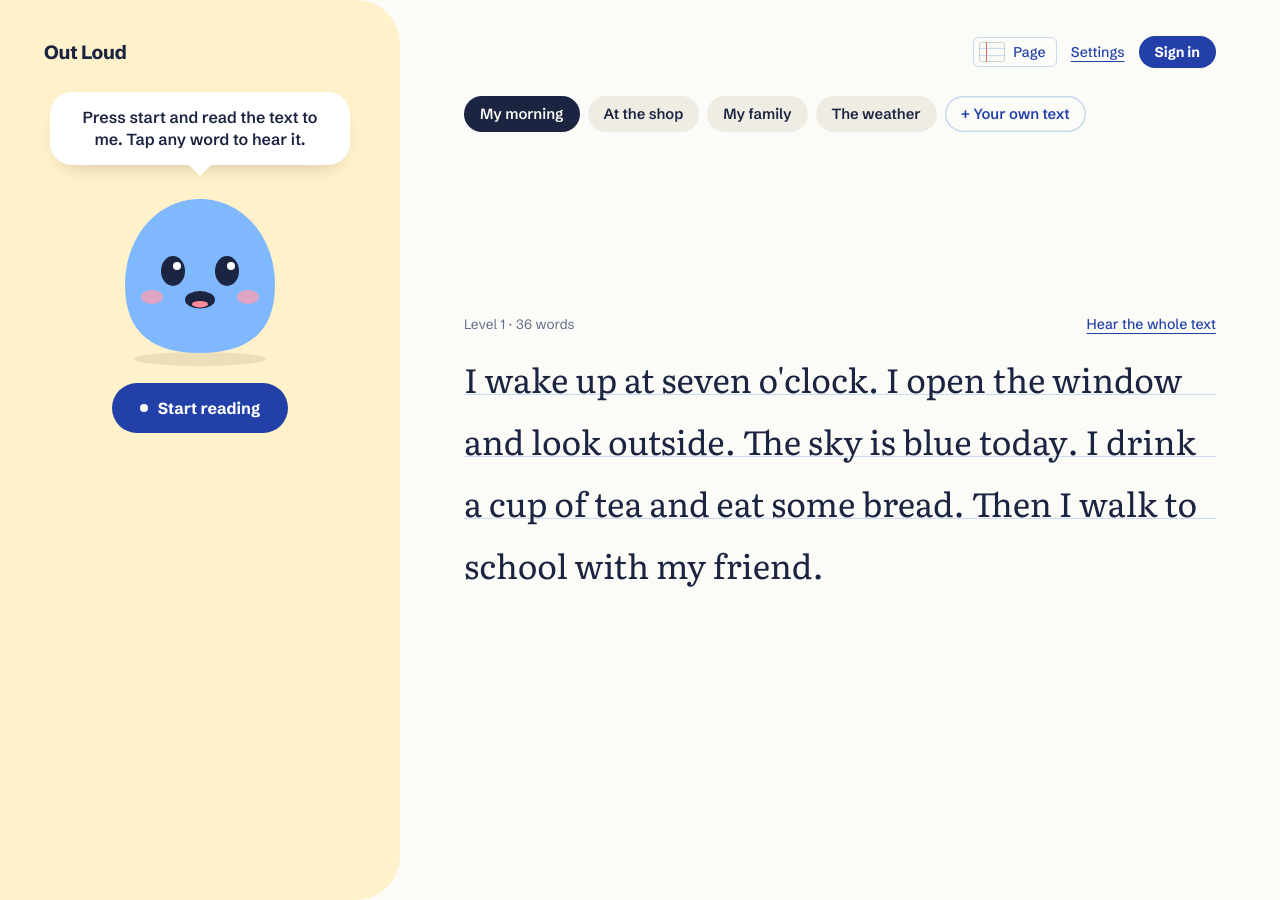
accounts and sync › explains a wrong password and stays signed out
The width and height of the screenshot is (1280, 900).
Click the button "Sign in" at (1177,52), box [1139,36,1216,68]
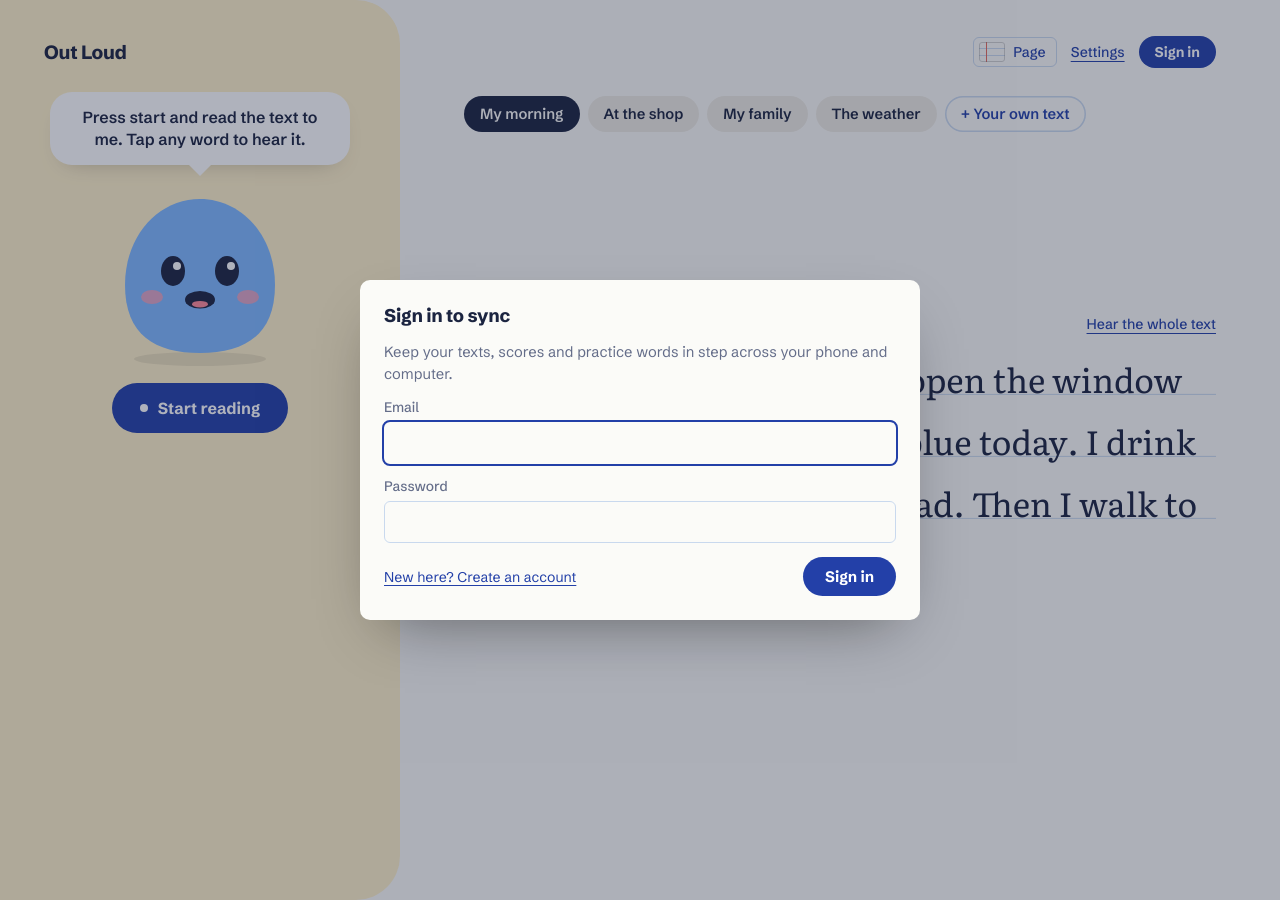
Type "me@example.com" into the field labelled "Email" at (640,443), box [384,422,896,464]
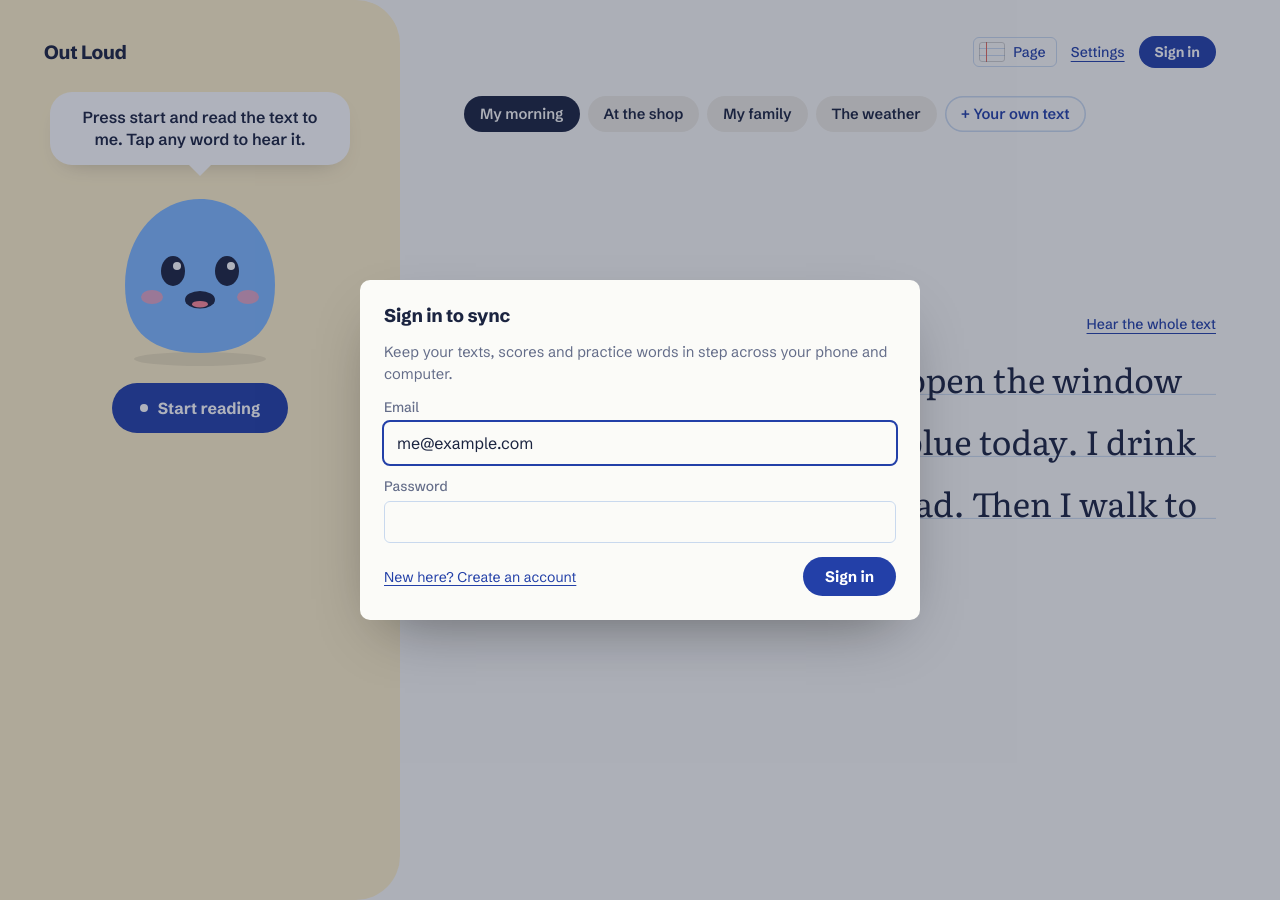
Type "wrong password" into the password field labelled "Password" at (640,522), box [384,501,896,543]
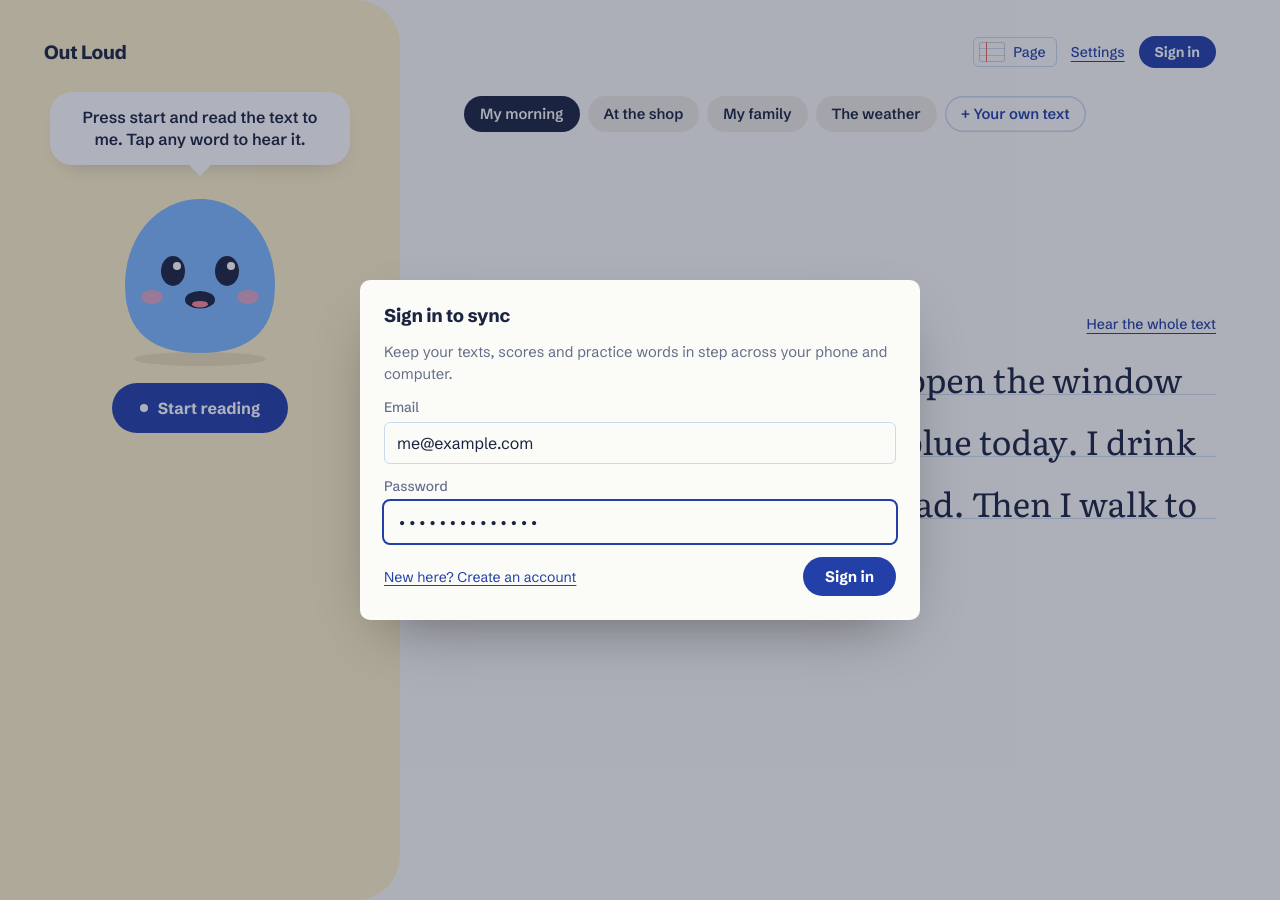
Click the button "Sign in" at (850,577), box [803,557,896,596]
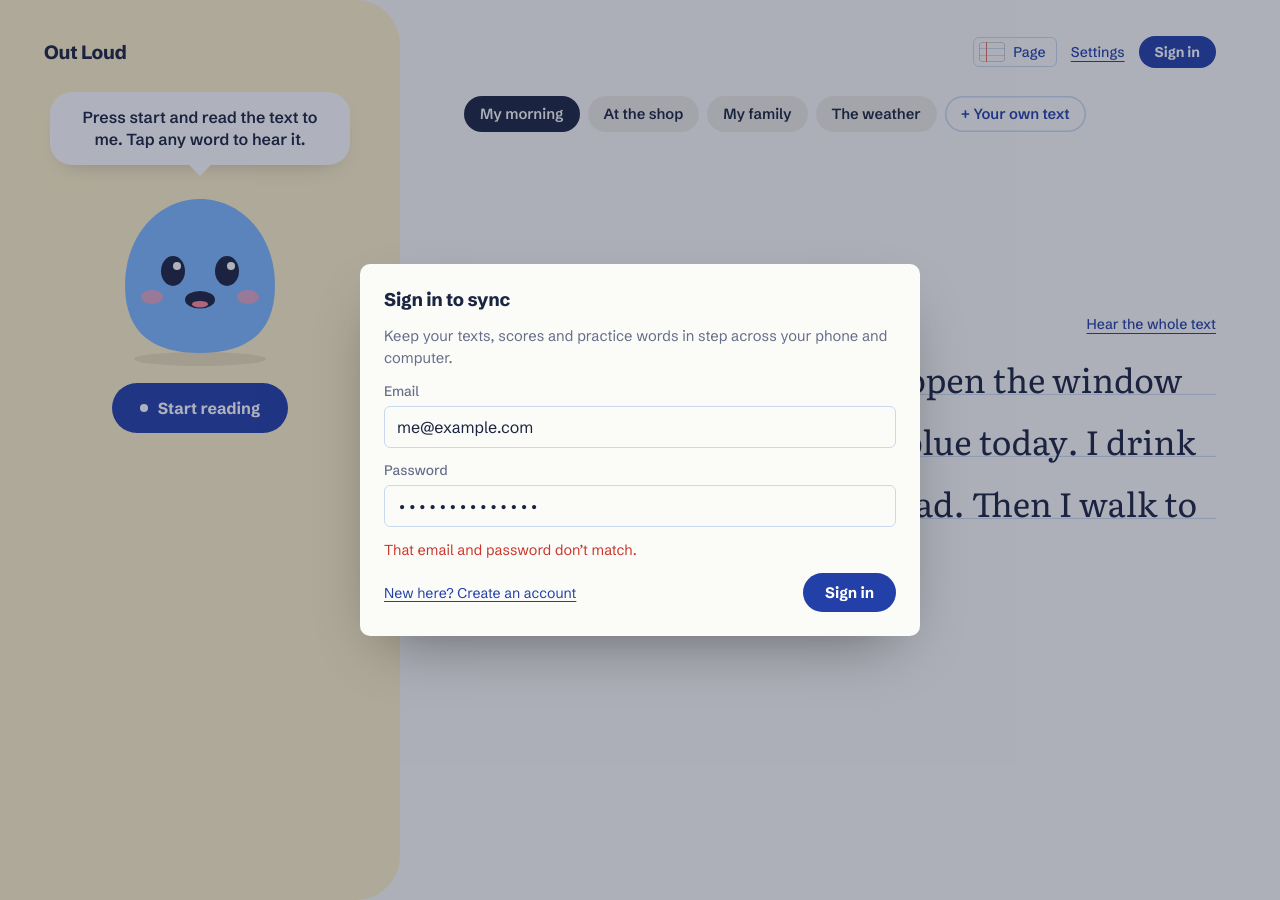
Check: the dialog is shown
Check: the message reads "That email and password don’t match.", box [384,541,637,559]
